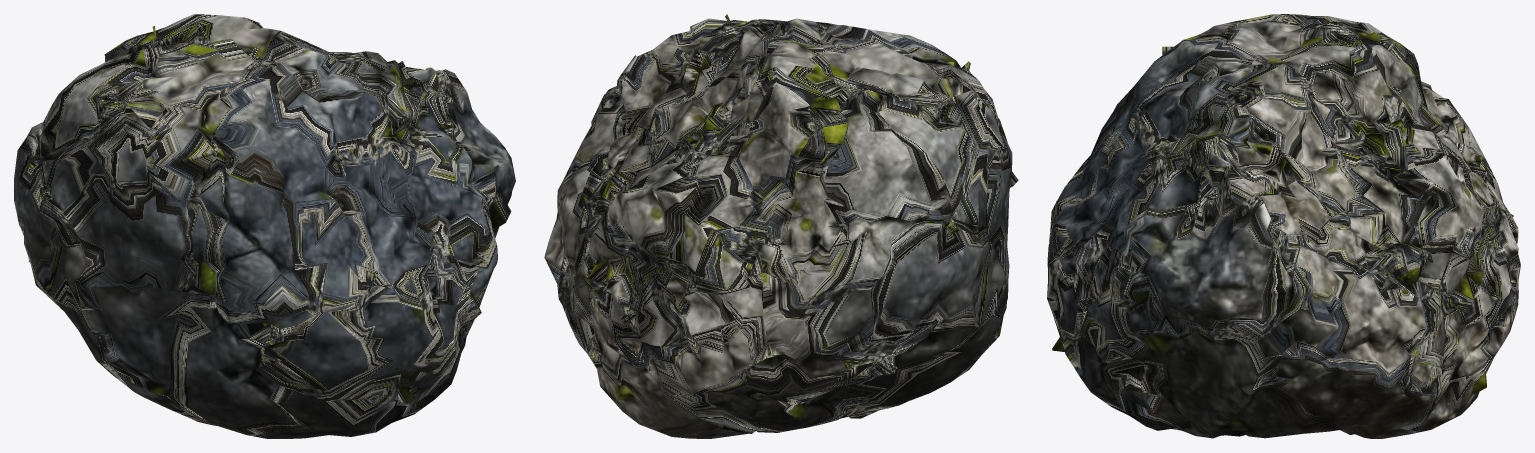
File: boulder-mid.glb
3 renders of one model, left to right at view 1: azimuth 30°, elevation 25°; view 2: azimuth 150°, elevation 25°; view 3: azimuth 270°, elevation 25°, orthographic. The views are drawn at different scales.
Size of the model in its own units: 0.9922 by 0.8047 by 0.9915.
1 material, 1 textured.
